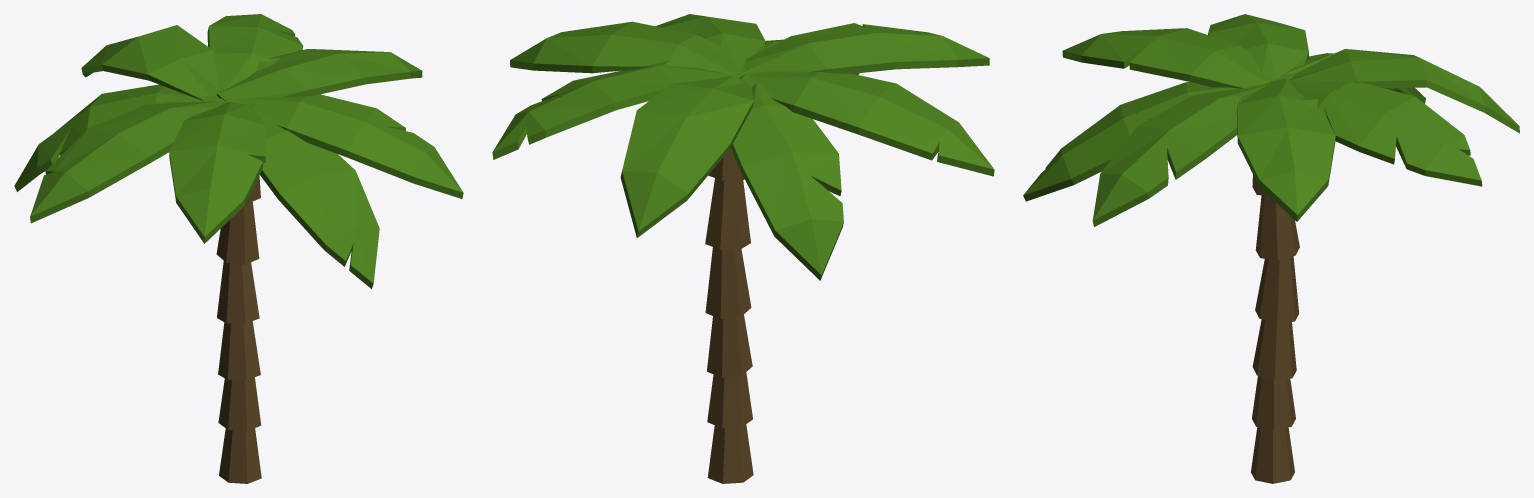
File: Palme1.fbx
3 renders of one model, left to right at view 1: azimuth 30°, elevation 25°; view 2: azimuth 150°, elevation 25°; view 3: azimuth 270°, elevation 25°, orthographic. The views are drawn at different scales.
Parts seen in each view (by area): view 1: Blatt_1, Stamm_1; view 2: Blatt_1, Stamm_1; view 3: Blatt_1, Stamm_1.
Part boxes in pixels (<box>): Blatt_1: <box>14,14,463,288</box>; Stamm_1: <box>216,175,261,483</box>; Blatt_1: <box>492,14,994,280</box>; Stamm_1: <box>705,148,753,483</box>; Blatt_1: <box>1023,14,1519,226</box>; Stamm_1: <box>1251,175,1299,483</box>.
Size of the model in its own units: 1454 by 1295 by 1452.
